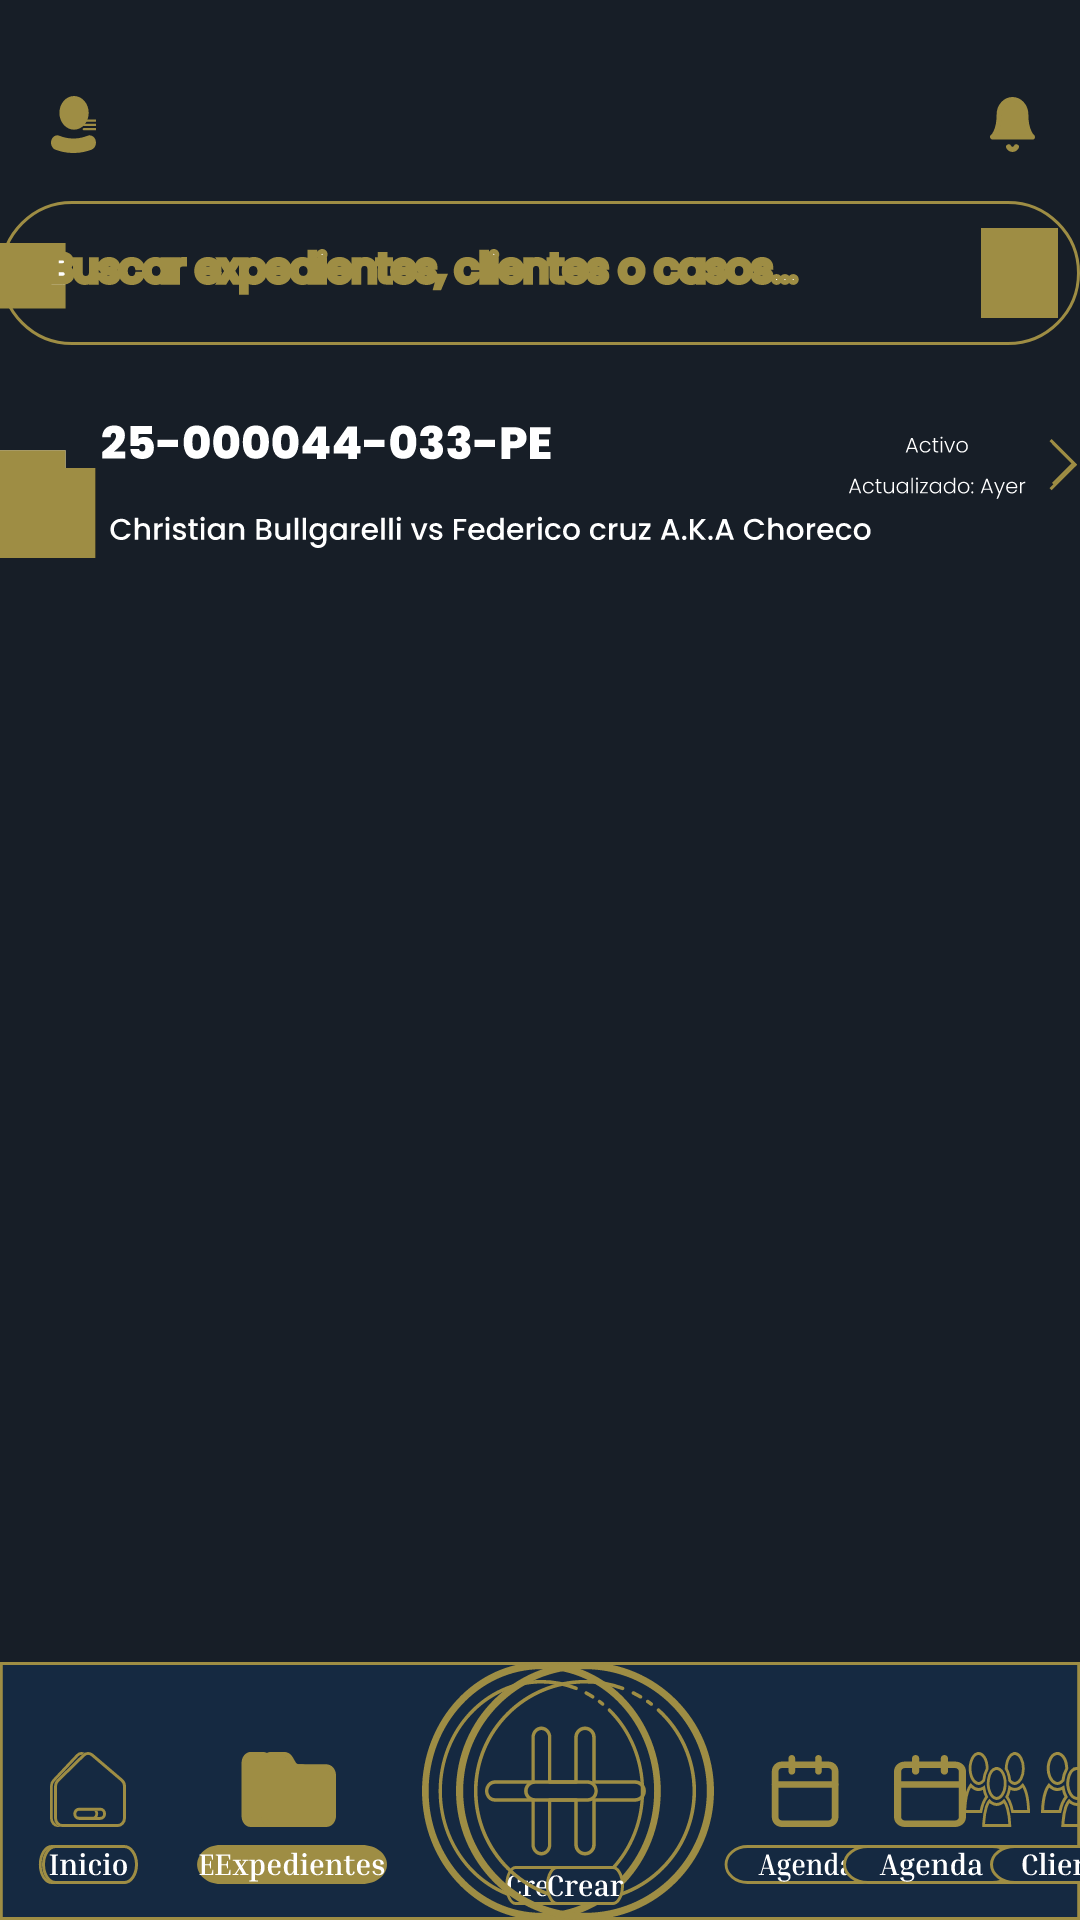

Screen size 1080w x 1920h. Icon name, then its center in pixels as (x,y):
ir lista expedientes: (1064,464)
notificaciones expedientes: (1012,124)
usuario expedientes: (73,124)
